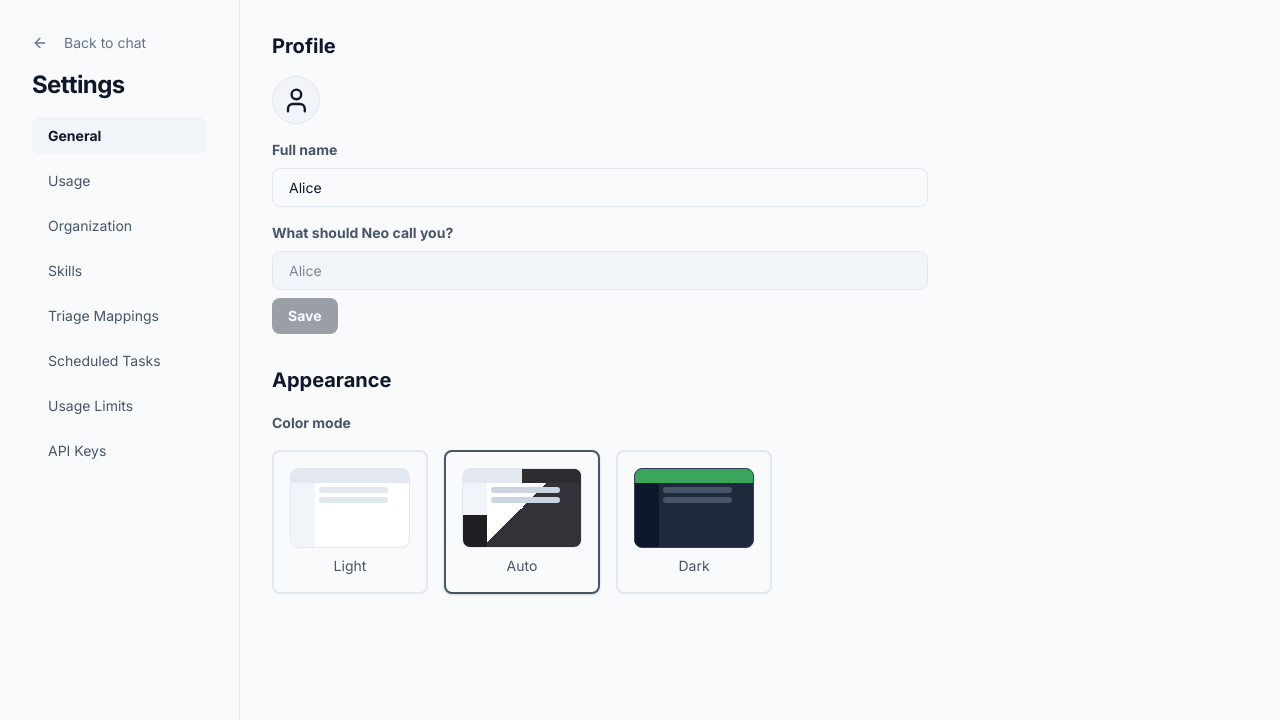
Test: SkillsSection — list view › renders the empty state when no skills exist
Click the tab "Skills". click: x=120, y=270
box: [32,252,207,289]
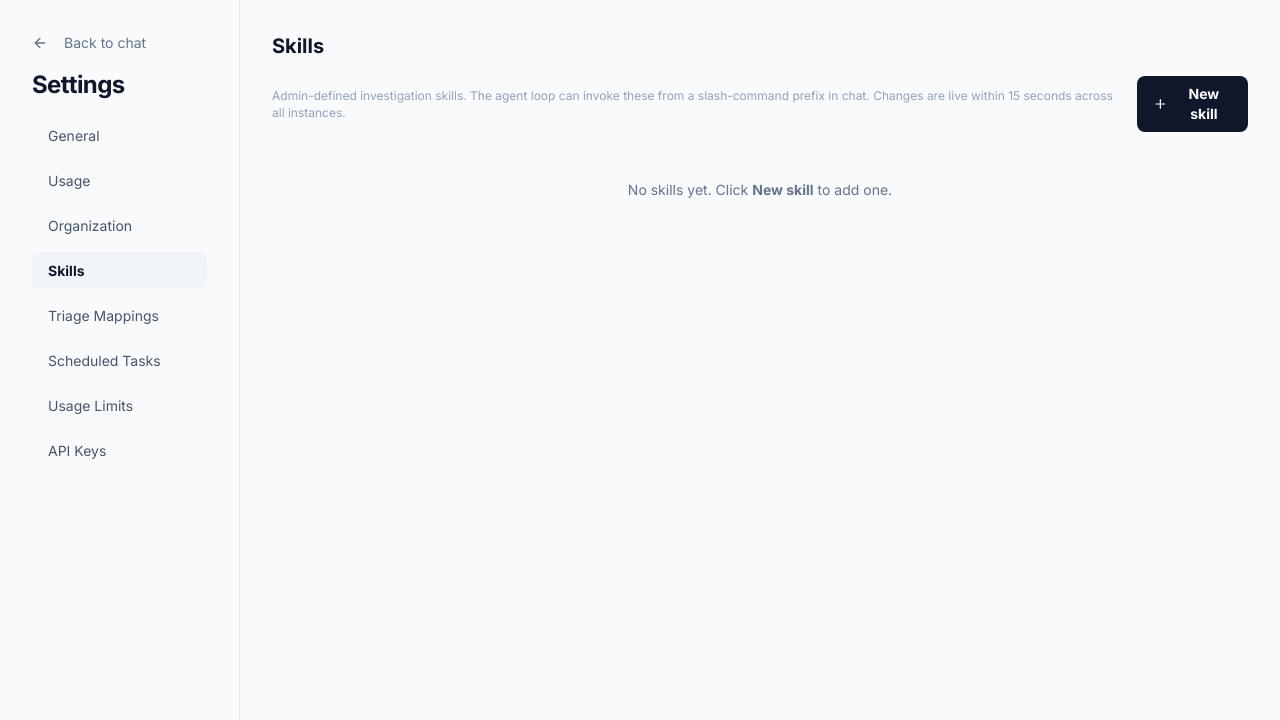
Expected: the text "No skills yet. Click New skill to add one." is shown, [628,181,892,198]
